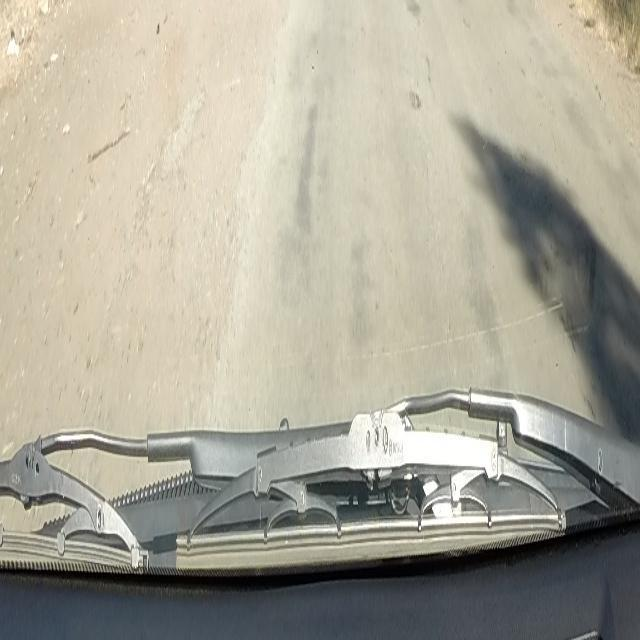pothole: (402, 84, 430, 114)
